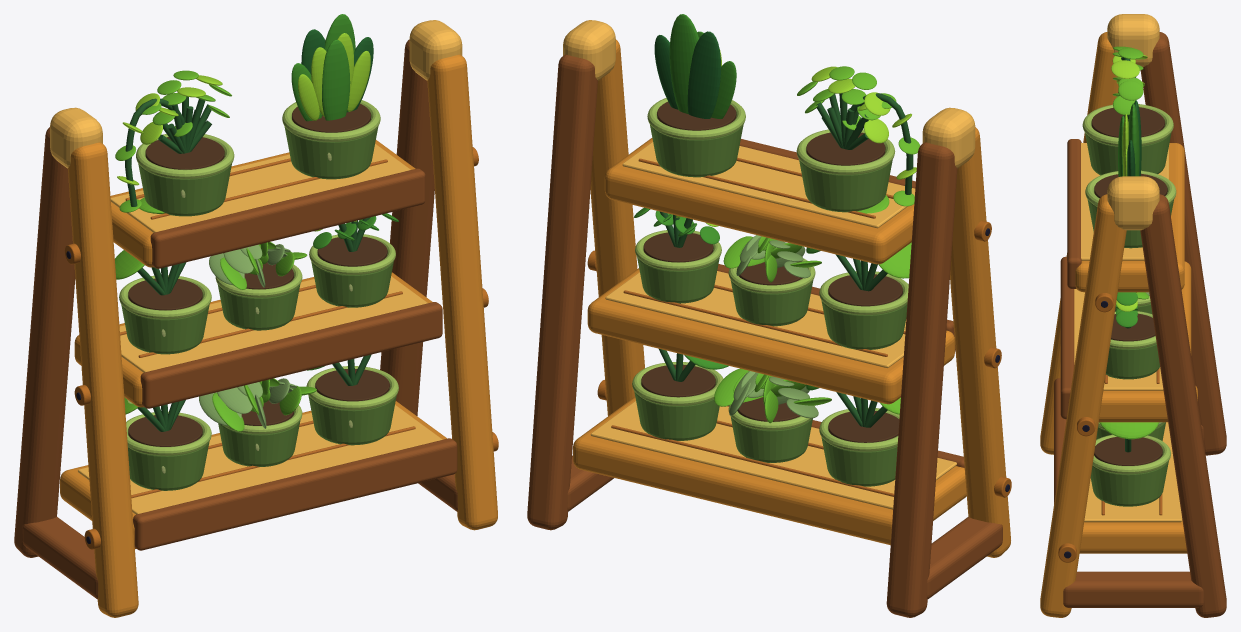
Rendered from plant-zone.glb.
3 views of the same model, side by side, from view 1: azimuth 30°, elevation 25°; view 2: azimuth 150°, elevation 25°; view 3: azimuth 270°, elevation 25° (orthographic). The views are drawn at different scales.
Parts seen in each view (by area): view 1: R_Front_Leg, L_Front_Leg, L_Rear_Leg, Bottom_Front_Lip, Middle_Front_Lip, Top_Front_Lip, R_Rear_Leg, Bottom_Top_Highlight, Middle_Top_Highlight, Top_Snake_Plant, Top_Top_Highlight, Top_Trailing_Coin_Plant (+36 smaller); view 2: R_Rear_Leg, L_Rear_Leg, L_Front_Leg, Bottom_Shelf, Middle_Shelf, Top_Shelf, R_Front_Leg, Bottom_Top_Highlight, Middle_Top_Highlight, Top_Snake_Plant, Top_Top_Highlight, Top_Trailing_Coin_Plant (+36 smaller); view 3: R_Rear_Leg, R_Front_Leg, L_Rear_Leg, R_Bottom_Brace, Bottom_Shelf, Top_Shelf, L_Front_Leg, Middle_Shelf, Bottom_Top_Highlight, R_Top_Cap, Bottom_Monstera_Ceramic_Body, Top_Front_Lip (+24 smaller).
Boxes of the visible parts, x1=… form: R_Front_Leg: x1=427, y1=54, x2=497, y2=530; L_Front_Leg: x1=68, y1=142, x2=138, y2=617; L_Rear_Leg: x1=14, y1=127, x2=75, y2=557; Bottom_Front_Lip: x1=133, y1=438, x2=457, y2=550; Middle_Front_Lip: x1=140, y1=302, x2=442, y2=408; Top_Front_Lip: x1=150, y1=168, x2=425, y2=268; R_Rear_Leg: x1=380, y1=39, x2=434, y2=415; Bottom_Top_Highlight: x1=78, y1=405, x2=442, y2=514; Middle_Top_Highlight: x1=119, y1=276, x2=427, y2=372; Top_Snake_Plant: x1=291, y1=14, x2=373, y2=121; Top_Top_Highlight: x1=110, y1=143, x2=410, y2=232; Top_Trailing_Coin_Plant: x1=115, y1=70, x2=231, y2=212; R_Rear_Leg: x1=527, y1=54, x2=597, y2=530; L_Rear_Leg: x1=886, y1=142, x2=957, y2=617; L_Front_Leg: x1=950, y1=127, x2=1010, y2=557; Bottom_Shelf: x1=573, y1=397, x2=966, y2=545; Middle_Shelf: x1=587, y1=268, x2=954, y2=404; Top_Shelf: x1=604, y1=138, x2=914, y2=264; R_Front_Leg: x1=590, y1=39, x2=644, y2=415; Bottom_Top_Highlight: x1=590, y1=401, x2=956, y2=509; Middle_Top_Highlight: x1=605, y1=271, x2=906, y2=368; Top_Snake_Plant: x1=654, y1=14, x2=736, y2=118; Top_Top_Highlight: x1=622, y1=142, x2=915, y2=228; Top_Trailing_Coin_Plant: x1=797, y1=66, x2=919, y2=206; R_Rear_Leg: x1=1140, y1=194, x2=1226, y2=617; R_Front_Leg: x1=1040, y1=194, x2=1126, y2=617; L_Rear_Leg: x1=1140, y1=32, x2=1226, y2=455; R_Bottom_Brace: x1=1063, y1=571, x2=1203, y2=607; Bottom_Shelf: x1=1079, y1=386, x2=1197, y2=553; Top_Shelf: x1=1075, y1=143, x2=1184, y2=292; L_Front_Leg: x1=1040, y1=32, x2=1118, y2=454; Middle_Shelf: x1=1068, y1=261, x2=1191, y2=422; Bottom_Top_Highlight: x1=1084, y1=422, x2=1182, y2=522; R_Top_Cap: x1=1107, y1=176, x2=1159, y2=230; Bottom_Monstera_Ceramic_Body: x1=1090, y1=453, x2=1168, y2=506; Top_Front_Lip: x1=1067, y1=139, x2=1081, y2=288.
Bounding box in the file's own units: 1.65 × 1.96 × 0.7085.
